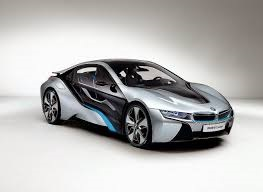bmw: (35, 57, 244, 151)
